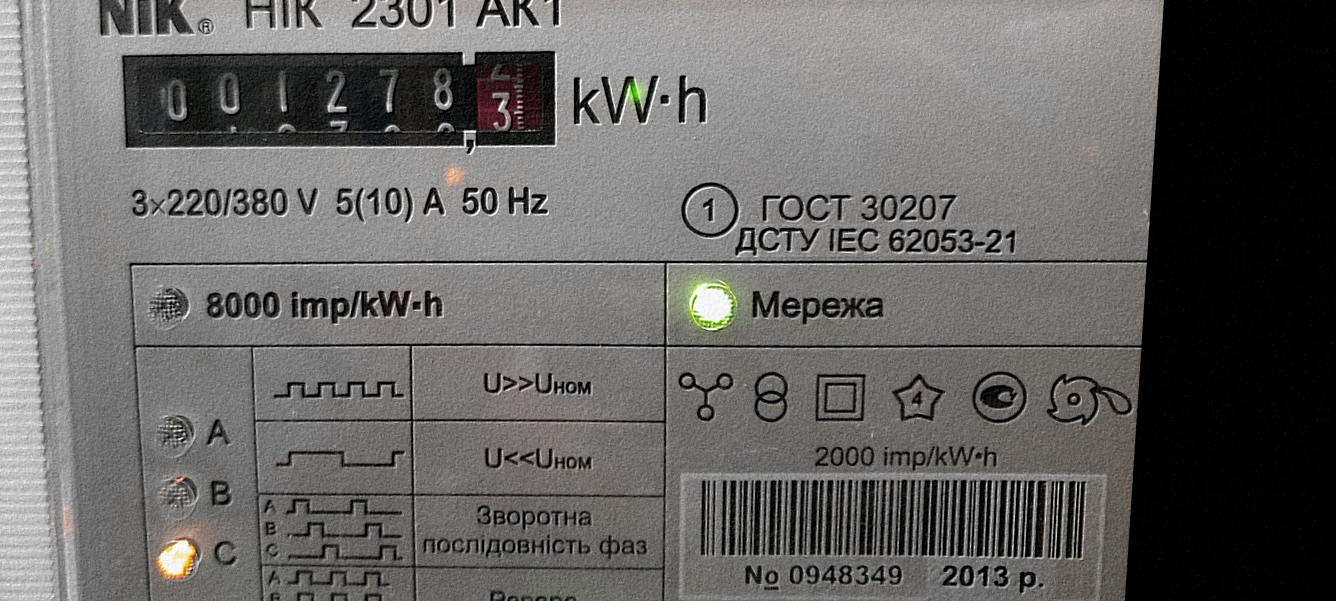0: (163, 74, 193, 124), (215, 69, 244, 117)
1: (273, 66, 294, 113)
2: (322, 68, 351, 116), (488, 61, 513, 82)
3: (487, 89, 516, 134)
7: (375, 66, 400, 114)
8: (430, 66, 457, 111)
screen: (102, 10, 579, 188)
